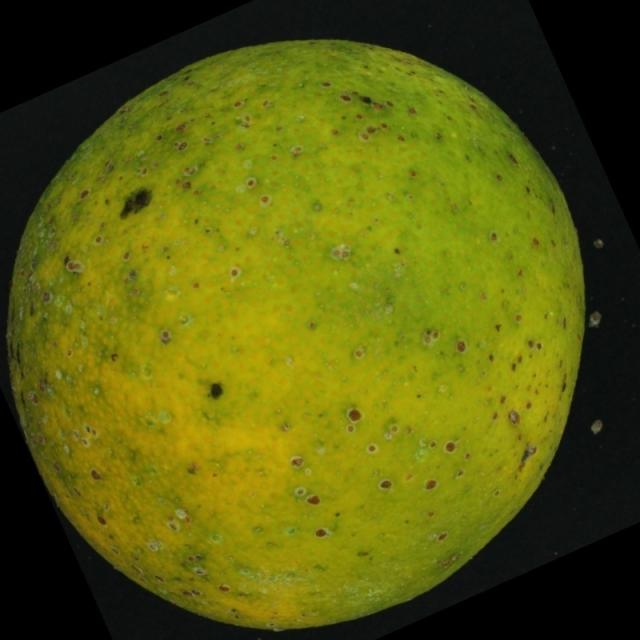grenning: (4, 28, 604, 633)
